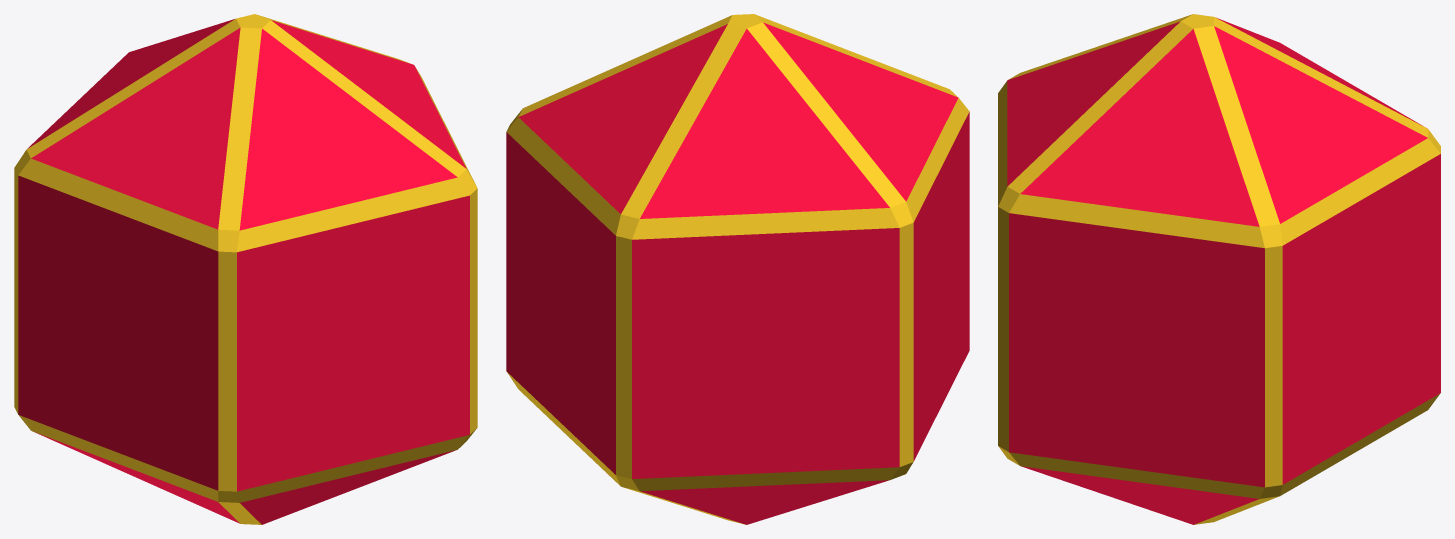
The model's file is big_bullet.glb.
3 renders of one model, left to right at view 1: azimuth 30°, elevation 25°; view 2: azimuth 150°, elevation 25°; view 3: azimuth 270°, elevation 25°, orthographic.
Parts seen in each view (by area): view 1: Sphere; view 2: Sphere; view 3: Sphere.
Boxes of the visible parts, bbox=[...] form: Sphere: bbox=[14, 14, 477, 524]; Sphere: bbox=[506, 14, 969, 524]; Sphere: bbox=[998, 14, 1440, 524].
Bounding box in the file's own units: 0.7788 × 0.9162 × 0.7407.
Materials: 1 (1 with a texture image).
